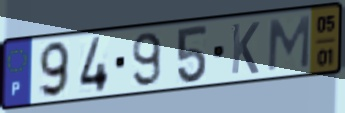4: (77, 34, 111, 95)
5: (175, 22, 209, 85)
9: (36, 39, 72, 101), (130, 30, 163, 88)
K: (229, 20, 261, 77)
M: (265, 13, 312, 74)
